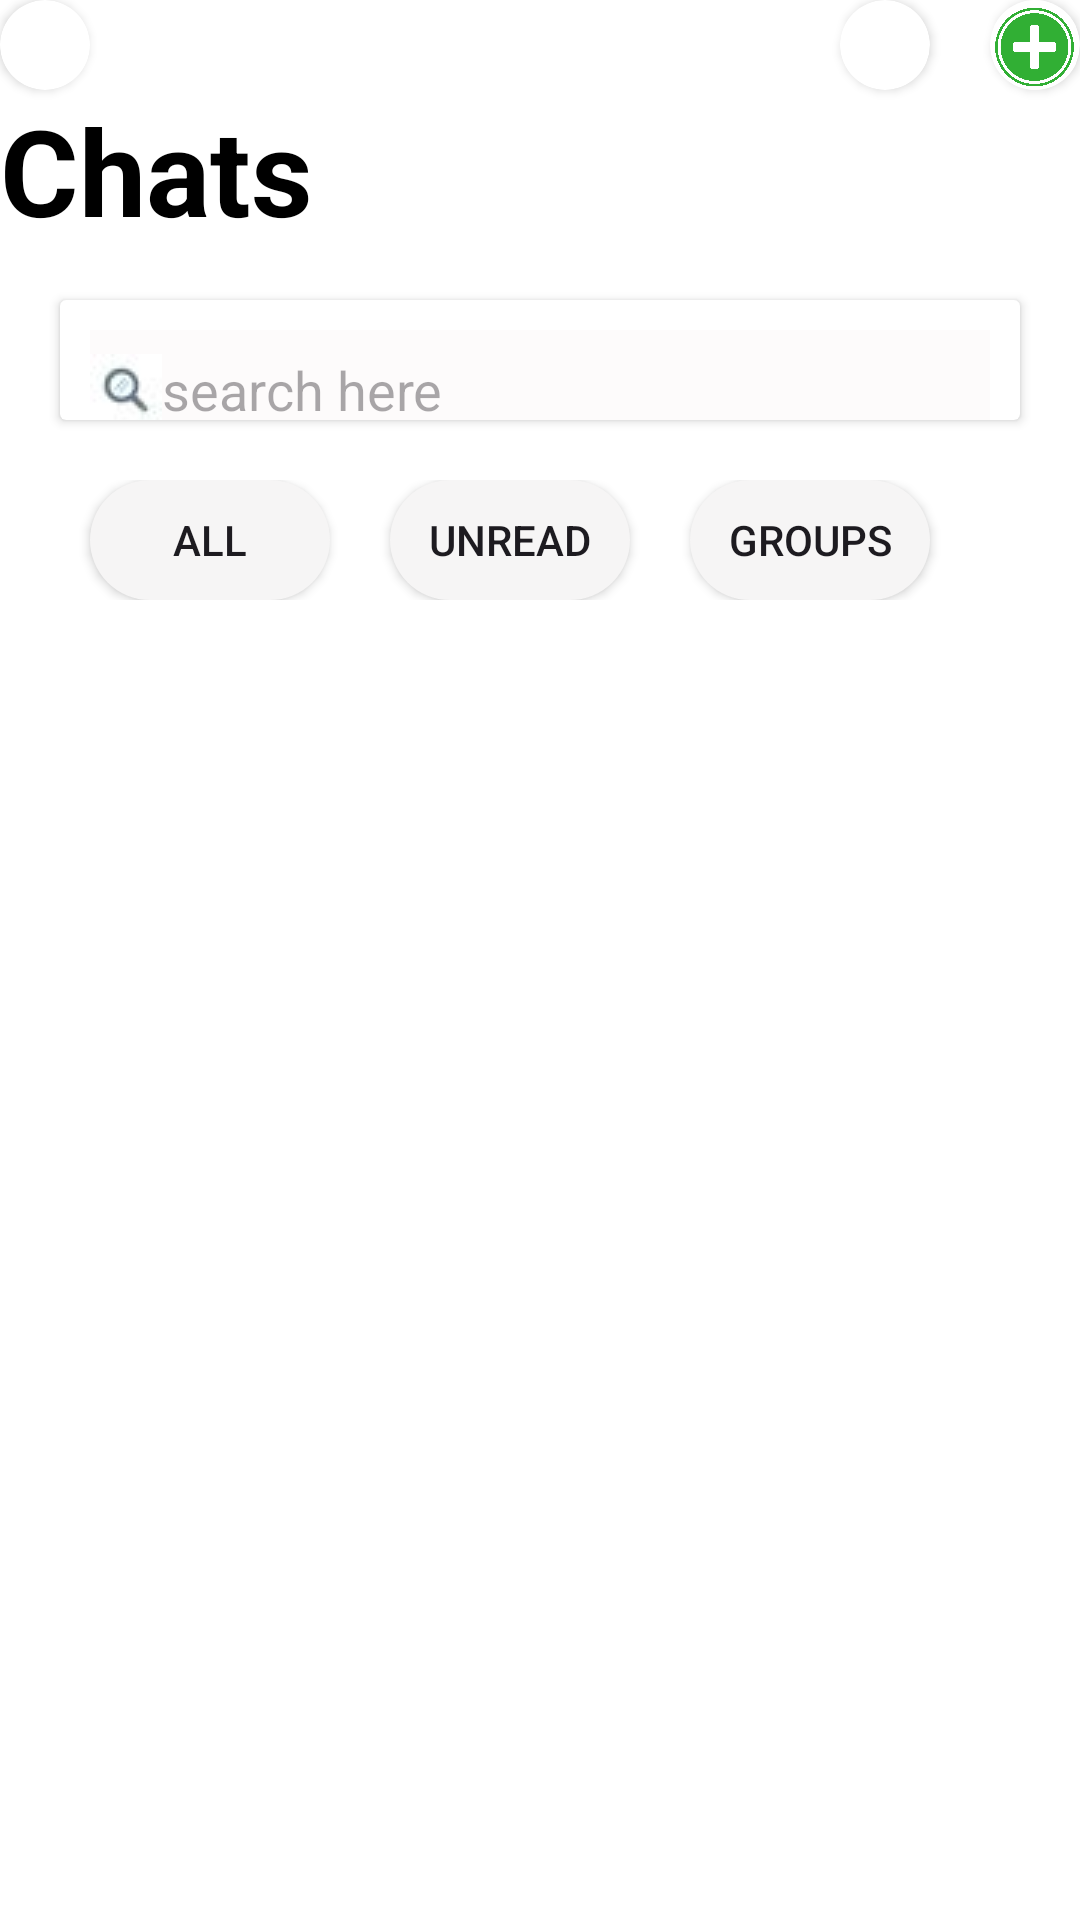

Screen size 1080 x 1920. Icon name, then its box in pixels as (x1, y1, x2, y2):
plus: (995, 8, 1080, 86)
